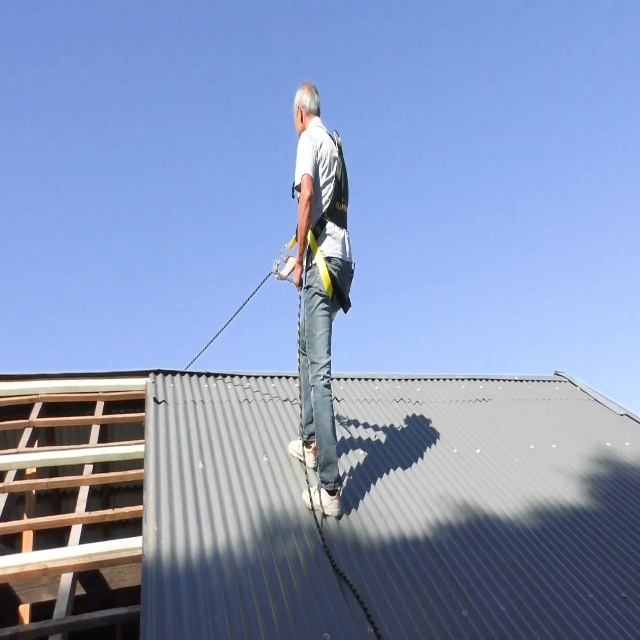Arnes_seguridad: (295, 114, 358, 327)
